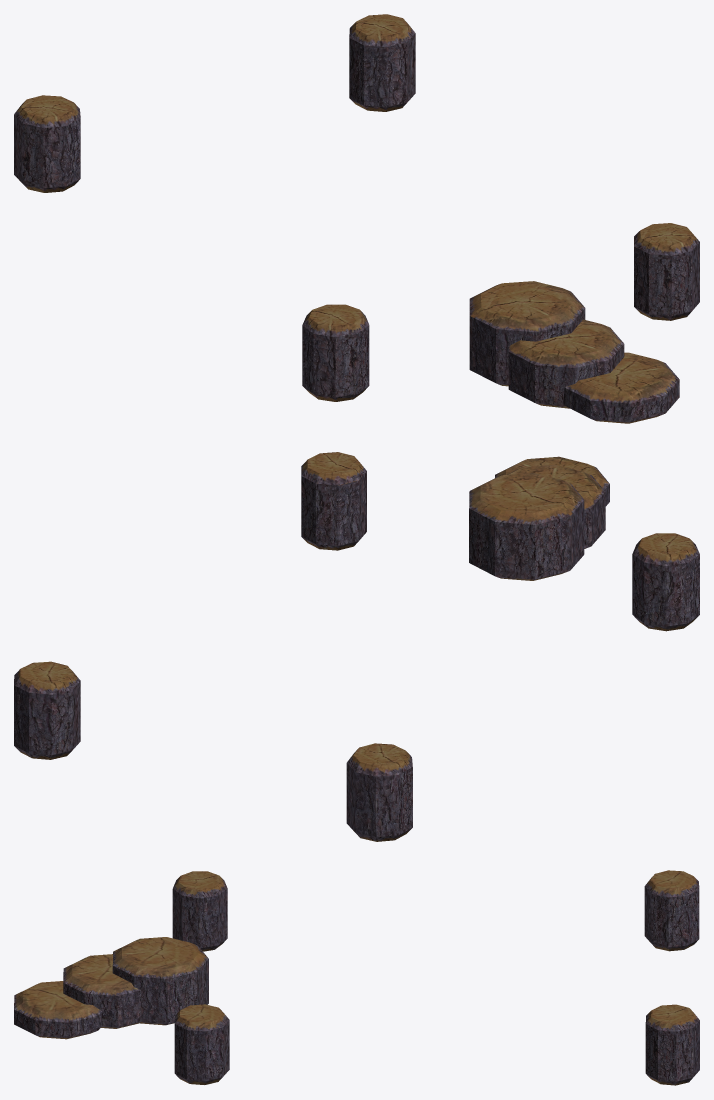
File: witchhouseposts.obj
3 renders of one model, top to bottom at view 1: azimuth 30°, elevation 25°; view 2: azimuth 150°, elevation 25°; view 3: azimuth 270°, elevation 25°, orthographic. The views are drawn at different scales.
Parts seen in each view (by area): view 1: witchhousepostmesh; view 2: witchhousepostmesh; view 3: witchhousepostmesh.
Part boxes in pixels (x1,y1,x2,y2): witchhousepostmesh: (14,14,699,423); witchhousepostmesh: (14,452,699,841); witchhousepostmesh: (14,870,699,1085).
Bounding box in the file's own units: 5.43 × 1 × 9.99.
1 material, 1 textured.
